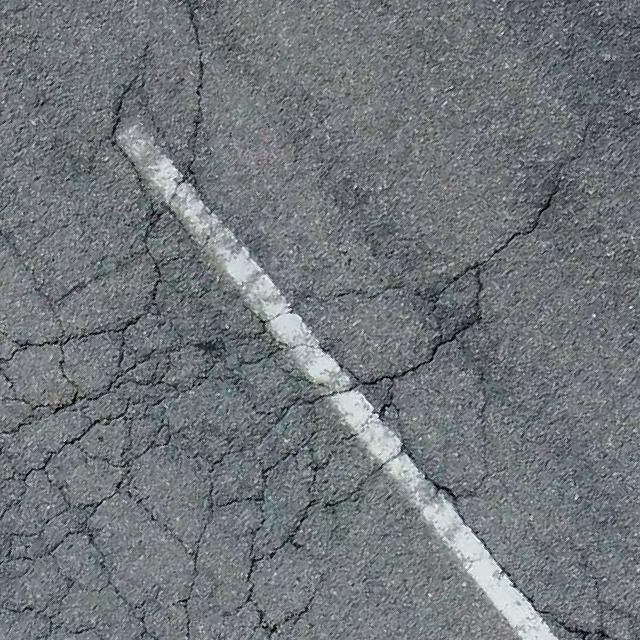GRIETA: (472, 108, 639, 267), (463, 521, 534, 602)
PIEL DE COCODRILO: (0, 0, 499, 639), (515, 556, 639, 639)
